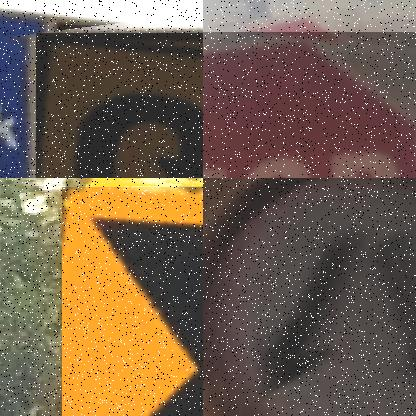Road Divides: (203, 178, 416, 416)
Sharp Right Turn: (62, 188, 203, 416)
Stop 2: (203, 33, 416, 178)
U-Turn: (36, 33, 203, 178)
